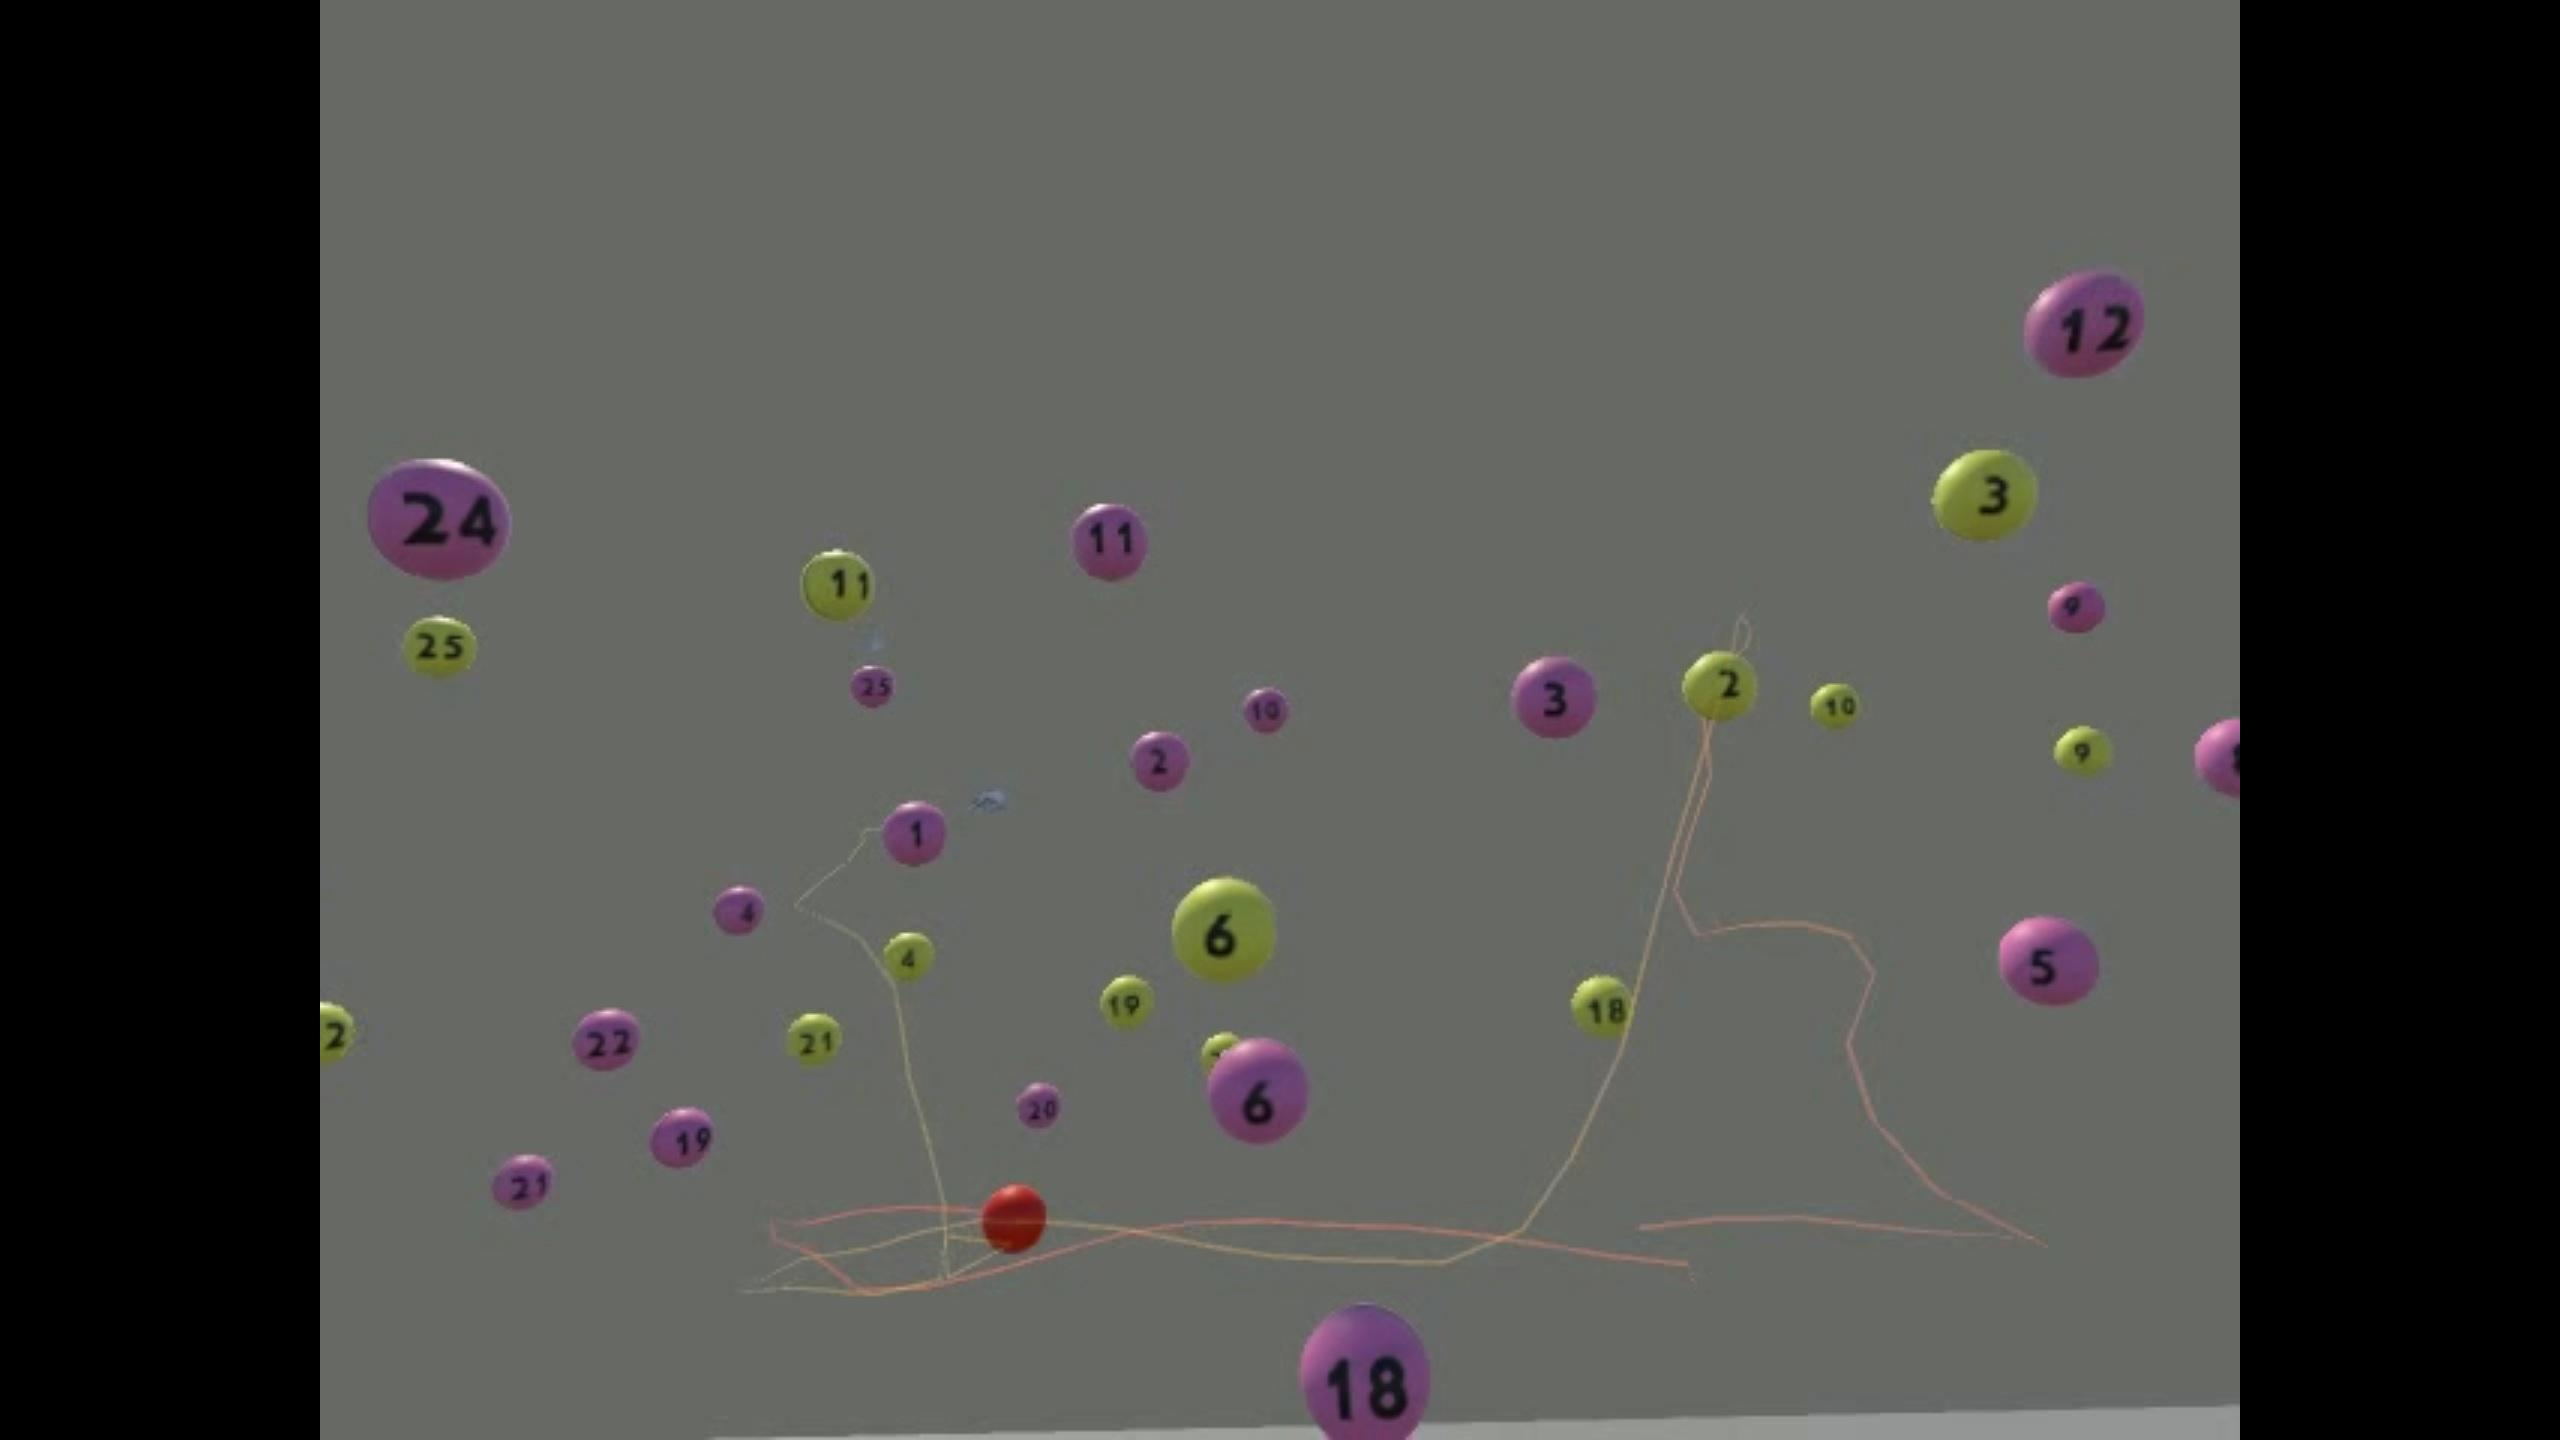ball_01_pink: (883, 802, 948, 865)
ball_02_pink: (1132, 730, 1190, 793)
ball_02_yellow: (1683, 651, 1756, 717)
ball_03_pink: (1514, 658, 1596, 737)
ball_03_yellow: (1931, 448, 2038, 542)
ball_04_pink: (712, 886, 765, 937)
ball_04_yellow: (884, 934, 934, 981)
ball_05_pink: (1999, 916, 2098, 1006)
ball_06_pink: (1208, 1039, 1310, 1145)
ball_06_yellow: (1171, 877, 1278, 985)
ball_09_pink: (2047, 582, 2105, 636)
ball_09_yellow: (2055, 726, 2115, 775)
ball_10_pink: (1243, 689, 1289, 735)
ball_10_yellow: (1811, 680, 1864, 730)
ball_11_pink: (1073, 503, 1148, 578)
ball_11_yellow: (800, 549, 874, 621)
ball_12_pink: (2025, 271, 2143, 380)
ball_18_pink: (1301, 1303, 1431, 1440)
ball_18_yellow: (1572, 978, 1635, 1037)
ball_19_pink: (651, 1108, 714, 1167)
ball_19_yellow: (1099, 976, 1155, 1029)
ball_21_pink: (492, 1155, 552, 1210)
ball_21_yellow: (784, 1015, 844, 1067)
ball_22_pink: (571, 1011, 642, 1073)
ball_24_pink: (367, 457, 508, 578)
ball_25_pink: (851, 663, 895, 709)
ball_25_yellow: (403, 617, 476, 679)
ball_unknown: (2193, 719, 2242, 796), (322, 1000, 353, 1058), (1201, 1030, 1233, 1064)
